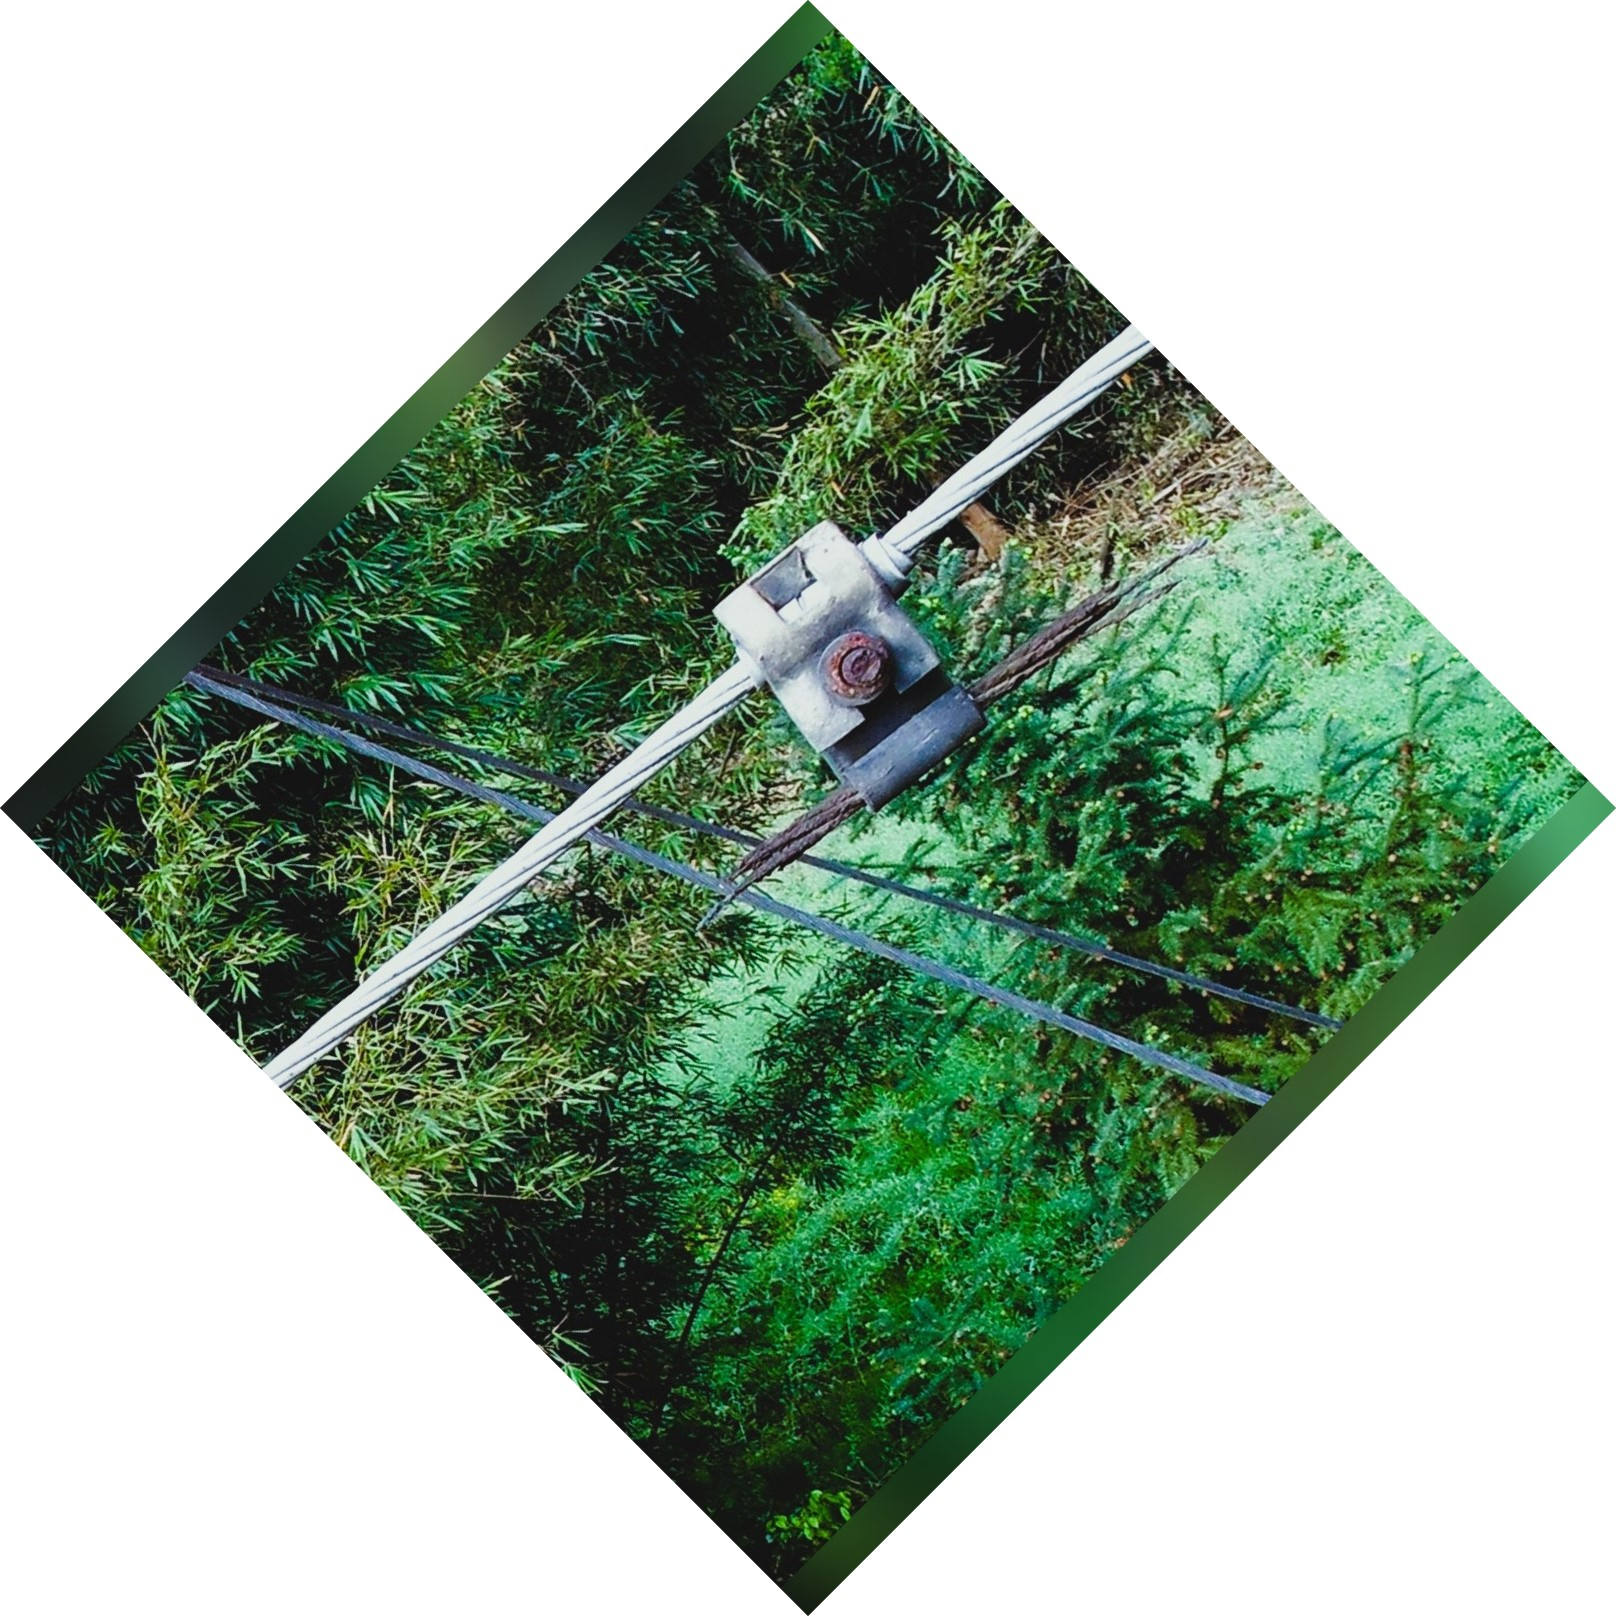Damage of shockproof hammer: (684, 490, 1219, 915)
